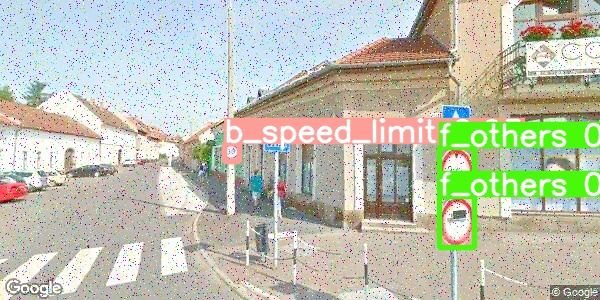b_speed_limit: (223, 143, 240, 161)
f_others: (439, 196, 476, 248), (438, 147, 475, 197)
